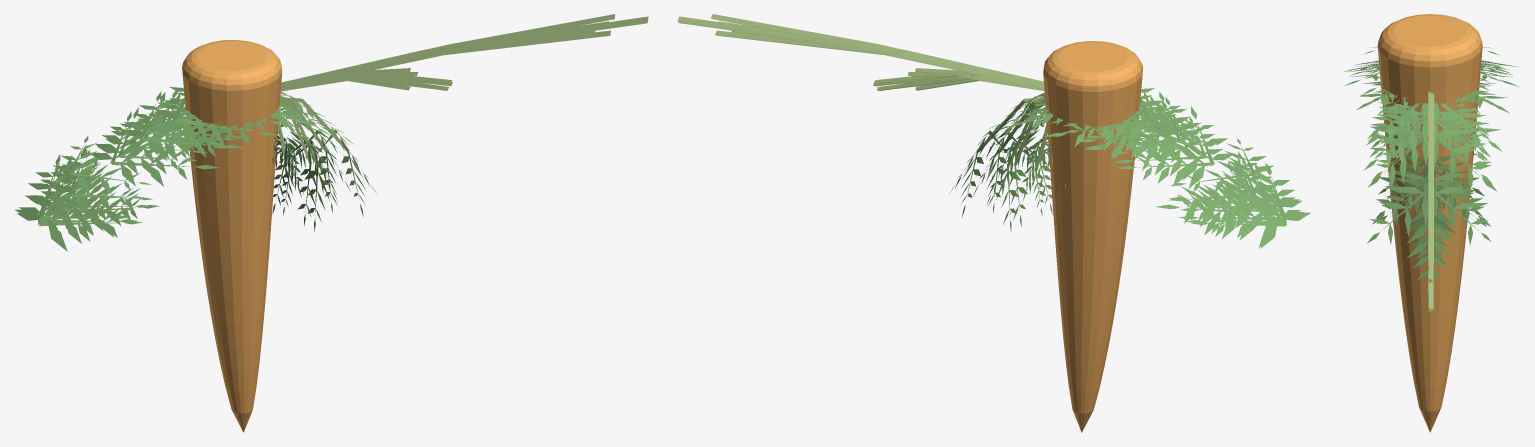
Rendered from carrot_harvest_v01.articulated.glb.
3 views of the same model, side by side, from view 1: azimuth 30°, elevation 25°; view 2: azimuth 150°, elevation 25°; view 3: azimuth 270°, elevation 25° (orthographic). The views are drawn at different scales.
Visible parts, largest first — view 1: root, leaf02_link2, leaf06_link2, leaf04_link2, leaf05_link2, leaf05_link0, leaf00_link2, leaf07_link2, leaf03_link2, leaf01_link2, leaf02_link0, leaf03_link0 (+2 smaller); view 2: root, leaf02_link2, leaf04_link2, leaf06_link2, leaf05_link2, leaf00_link2, leaf07_link2, leaf03_link2, leaf01_link2, leaf00_link0, leaf08_link2, leaf03_link0 (+3 smaller); view 3: root, leaf02_link2, leaf04_link2, leaf06_link2, leaf05_link2, leaf07_link2, leaf01_link2, leaf00_link2, leaf00_link0, leaf03_link0, leaf08_link2, leaf03_link2 (+1 smaller).
Part boxes in pixels (left/top/right/bottom): root: left=182, top=40, right=282, bottom=432; leaf02_link2: left=19, top=91, right=376, bottom=237; leaf06_link2: left=17, top=87, right=337, bottom=251; leaf04_link2: left=35, top=92, right=350, bottom=222; leaf05_link2: left=14, top=92, right=329, bottom=243; leaf05_link0: left=281, top=16, right=648, bottom=89; leaf00_link2: left=53, top=98, right=304, bottom=193; leaf07_link2: left=50, top=90, right=318, bottom=220; leaf03_link2: left=50, top=98, right=296, bottom=212; leaf01_link2: left=75, top=94, right=303, bottom=230; leaf02_link0: left=281, top=30, right=610, bottom=89; leaf03_link0: left=281, top=14, right=615, bottom=82; root: left=1043, top=41, right=1142, bottom=432; leaf02_link2: left=949, top=92, right=1300, bottom=240; leaf04_link2: left=972, top=94, right=1283, bottom=227; leaf06_link2: left=985, top=88, right=1310, bottom=248; leaf05_link2: left=994, top=92, right=1303, bottom=247; leaf00_link2: left=1024, top=101, right=1273, bottom=192; leaf07_link2: left=1007, top=96, right=1275, bottom=227; leaf03_link2: left=1024, top=92, right=1271, bottom=215; leaf01_link2: left=1021, top=95, right=1252, bottom=227; leaf00_link0: left=755, top=22, right=1044, bottom=87; leaf08_link2: left=1018, top=99, right=1257, bottom=214; leaf03_link0: left=710, top=14, right=880, bottom=49; root: left=1377, top=14, right=1482, bottom=432; leaf02_link2: left=1353, top=57, right=1519, bottom=289; leaf04_link2: left=1366, top=60, right=1505, bottom=258; leaf06_link2: left=1342, top=60, right=1518, bottom=264; leaf05_link2: left=1349, top=64, right=1508, bottom=248; leaf07_link2: left=1359, top=69, right=1512, bottom=208; leaf01_link2: left=1364, top=71, right=1496, bottom=222; leaf00_link2: left=1362, top=42, right=1501, bottom=147; leaf00_link0: left=1428, top=91, right=1434, bottom=254; leaf03_link0: left=1428, top=151, right=1434, bottom=282; leaf08_link2: left=1367, top=65, right=1496, bottom=143; leaf03_link2: left=1363, top=62, right=1500, bottom=155.
Size of the model in its own units: 0.2634 by 0.1567 by 0.0648.
Materials: 1 (1 with a texture image).
